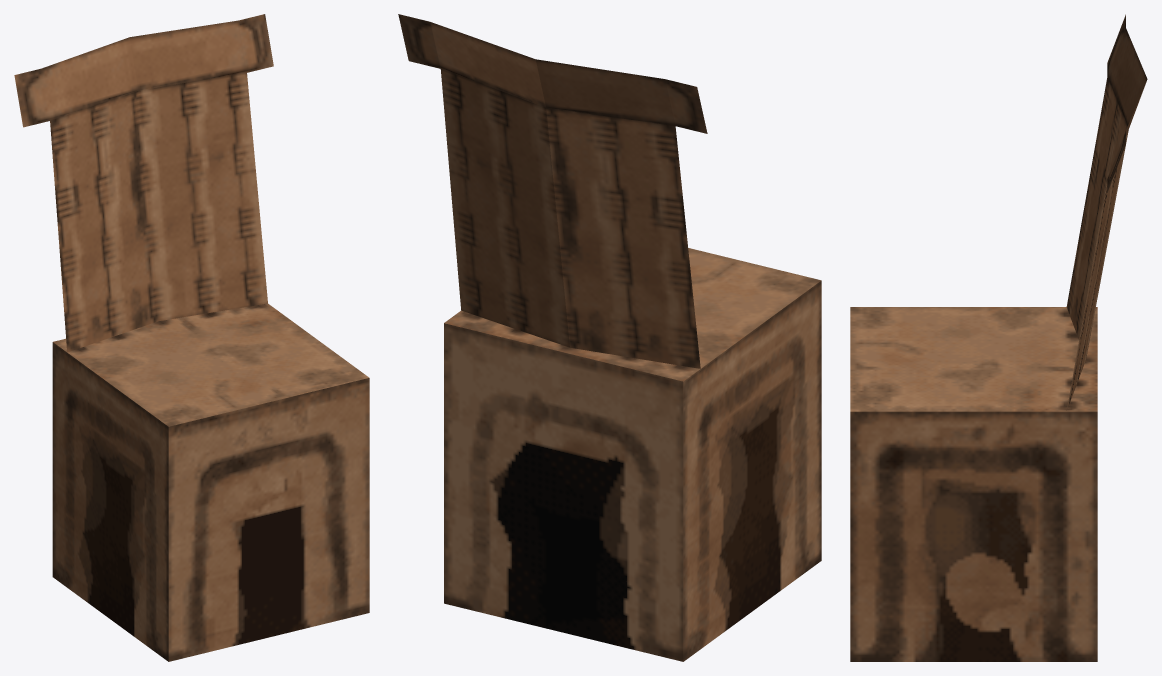
File: chair.fbx
The picture shows the model from 3 angles, left to right: view 1: azimuth 30°, elevation 25°; view 2: azimuth 150°, elevation 25°; view 3: azimuth 270°, elevation 25°; orthographic projection. The views are drawn at different scales.
Visible parts, largest first — view 1: SM_Chair.001; view 2: SM_Chair.001; view 3: SM_Chair.001.
Part boxes in pixels (box(x1,y1,x2,y2)): SM_Chair.001: box(14, 14, 369, 661); SM_Chair.001: box(398, 14, 821, 661); SM_Chair.001: box(850, 14, 1147, 661).
Bounding box in the file's own units: 56.09 × 106 × 54.04.
Materials: 1 (1 with a texture image).
